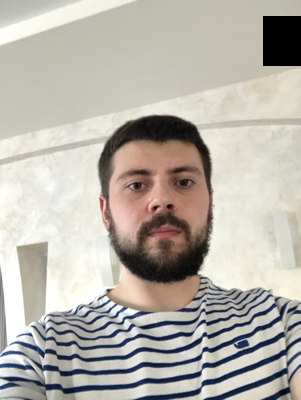without_mask: (114, 159, 213, 286)
